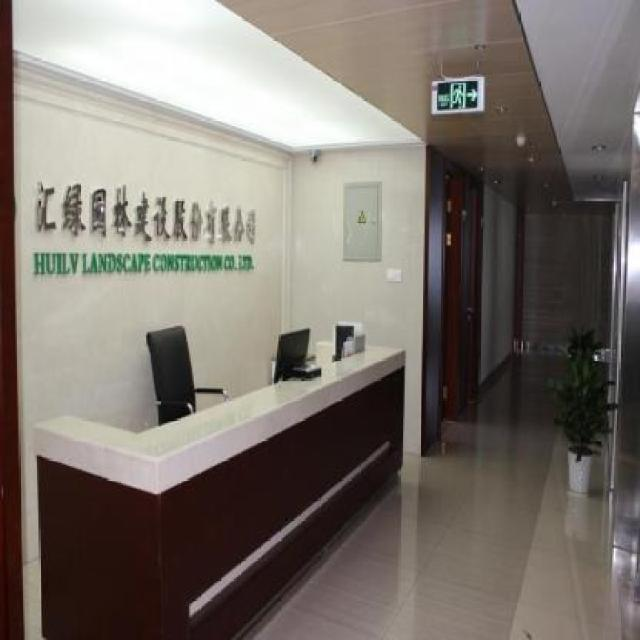frontdesk: (19, 329, 412, 640)
